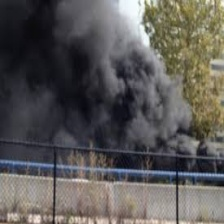smoke: (7, 4, 197, 161)
